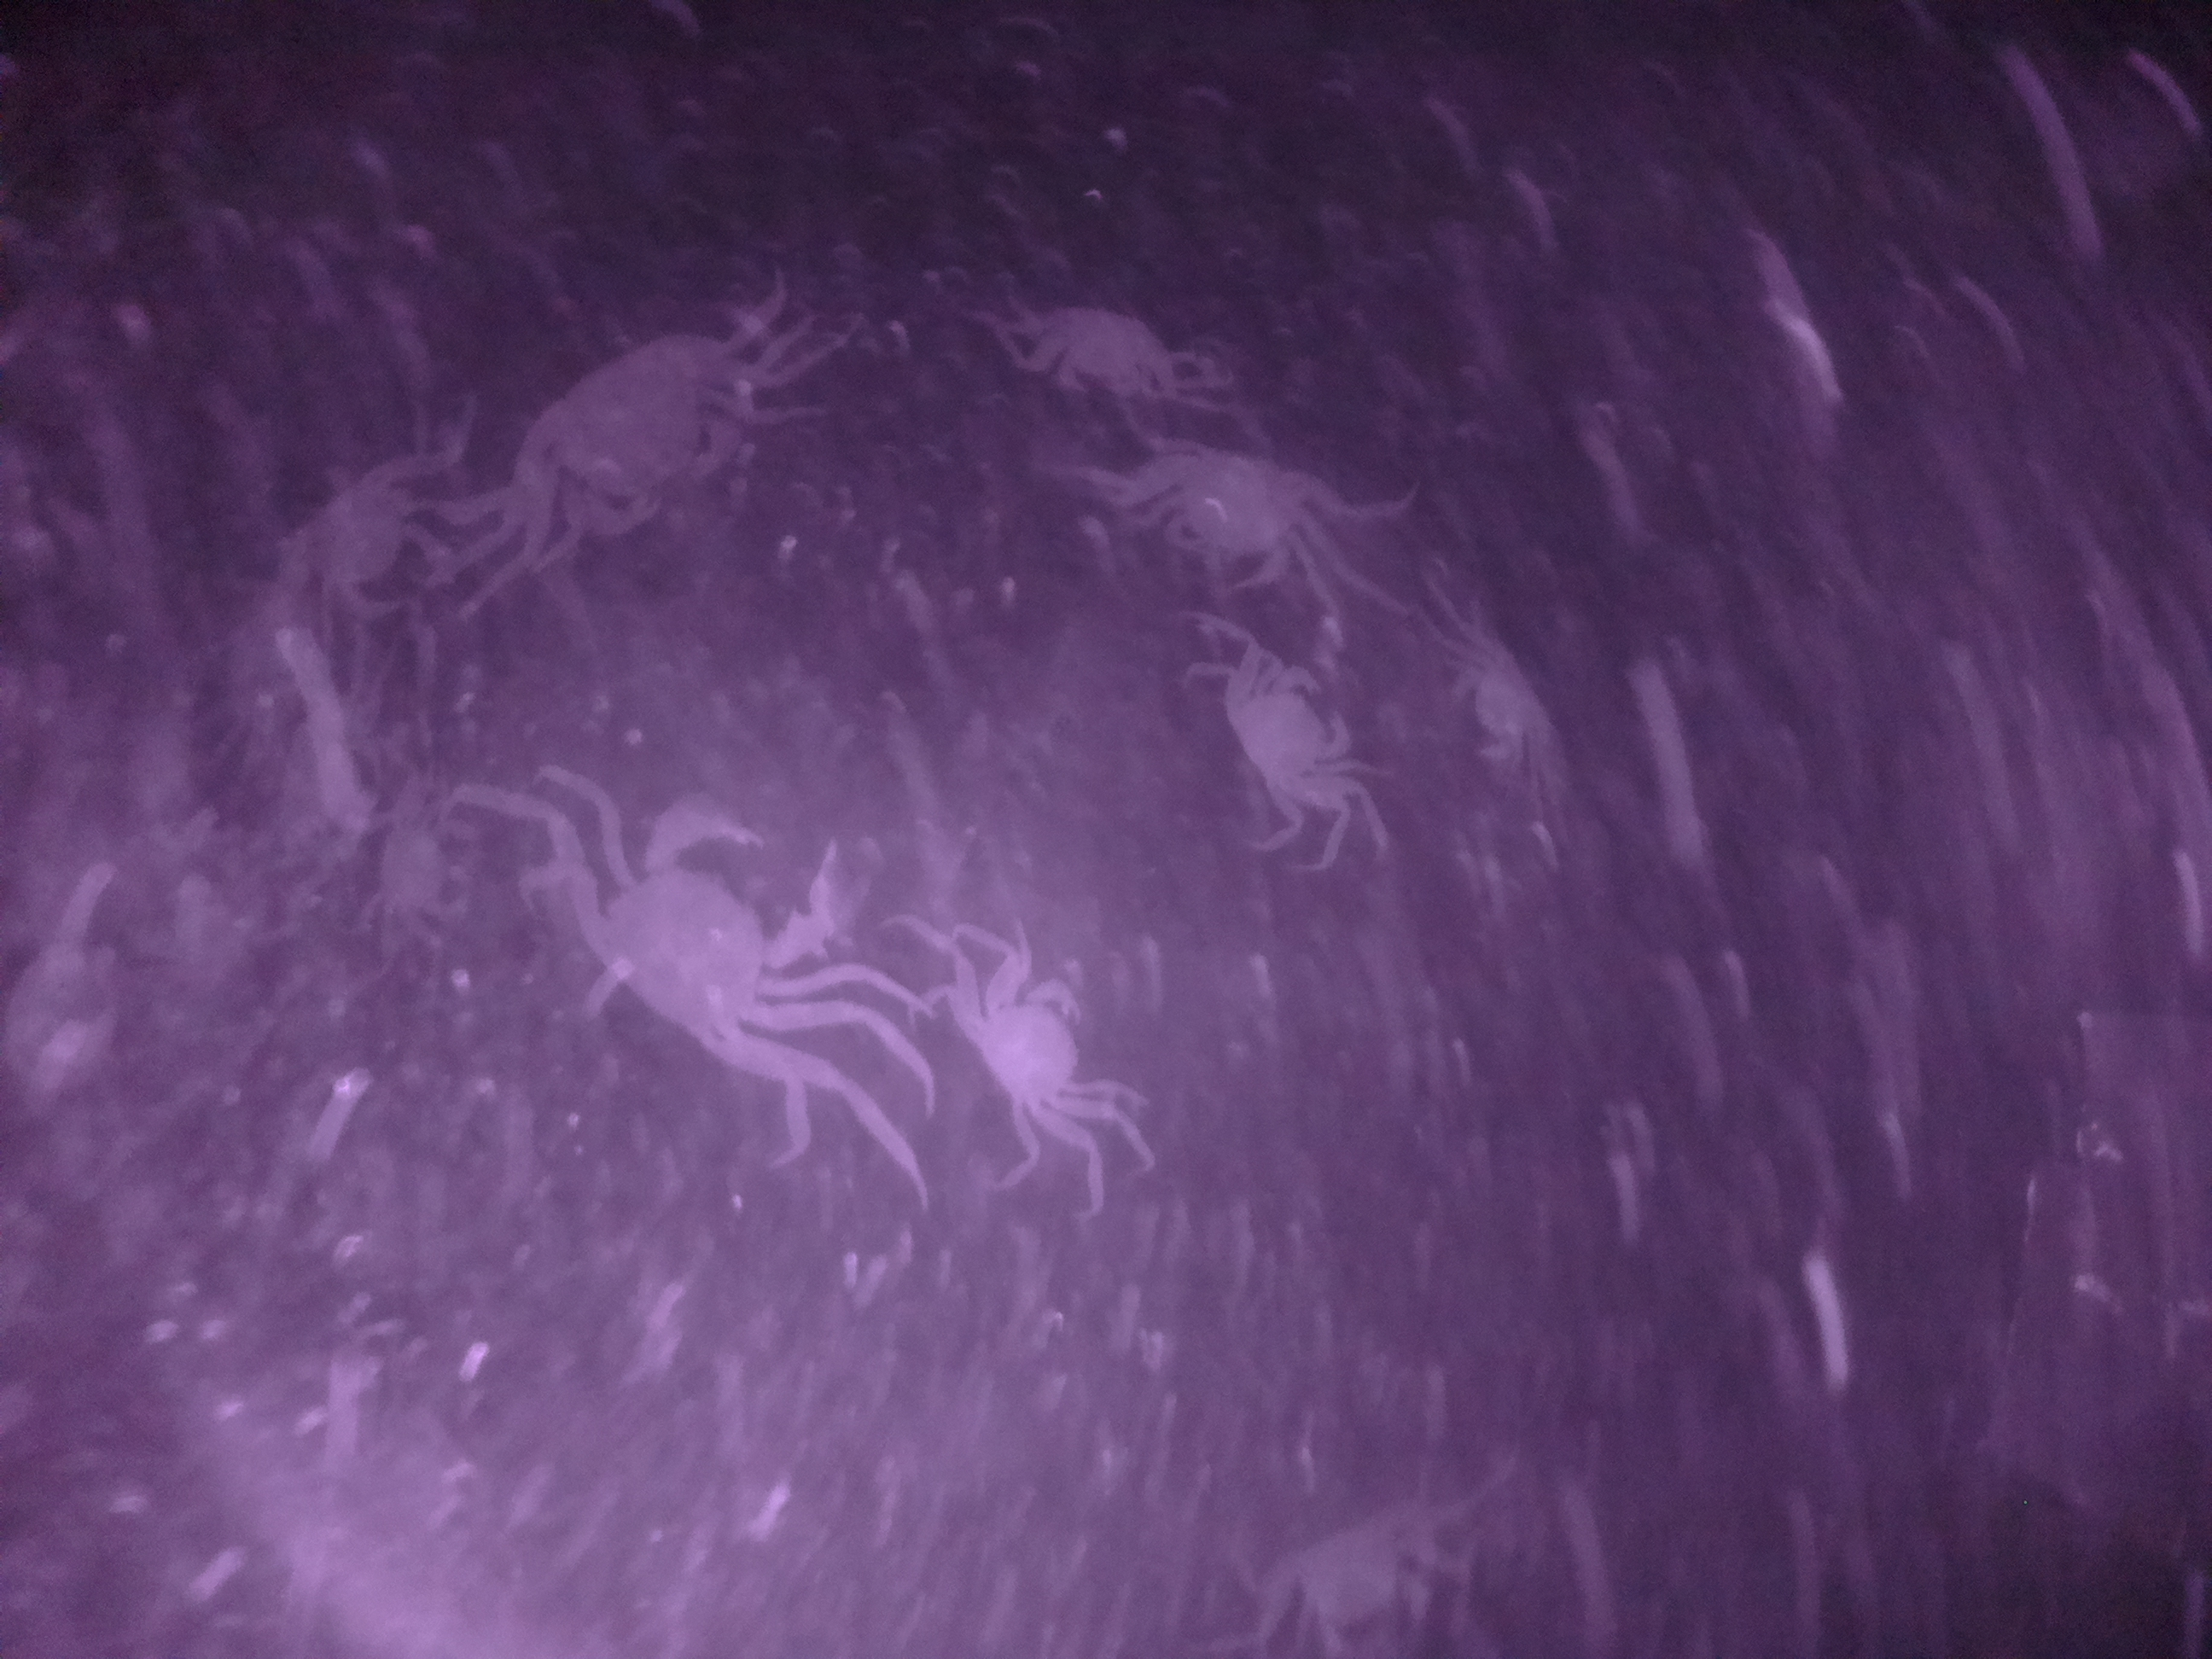Crab: (557, 765, 864, 1080), (514, 303, 765, 572), (1120, 436, 1357, 599), (935, 932, 1118, 1134), (1200, 648, 1369, 826), (1014, 279, 1191, 406), (1458, 643, 1559, 770)
